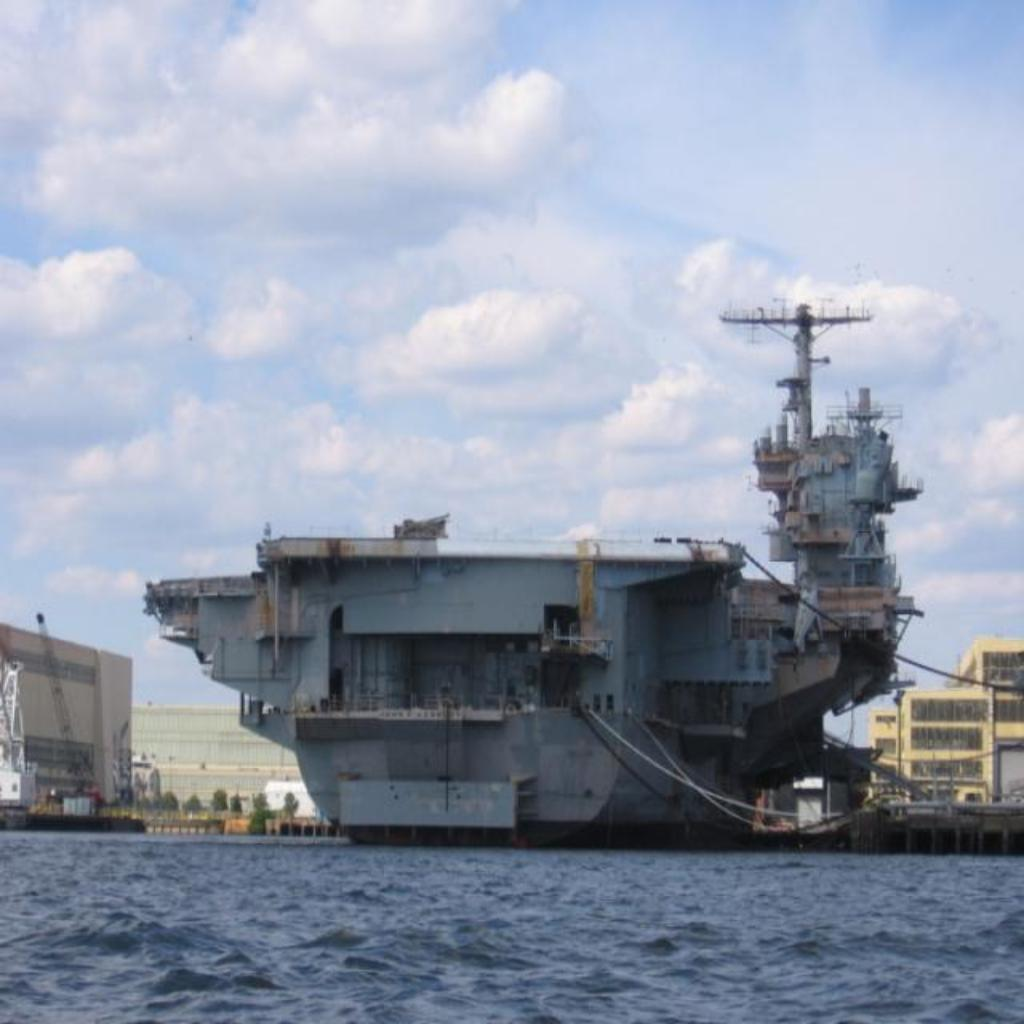Warship: (138, 294, 930, 846)
